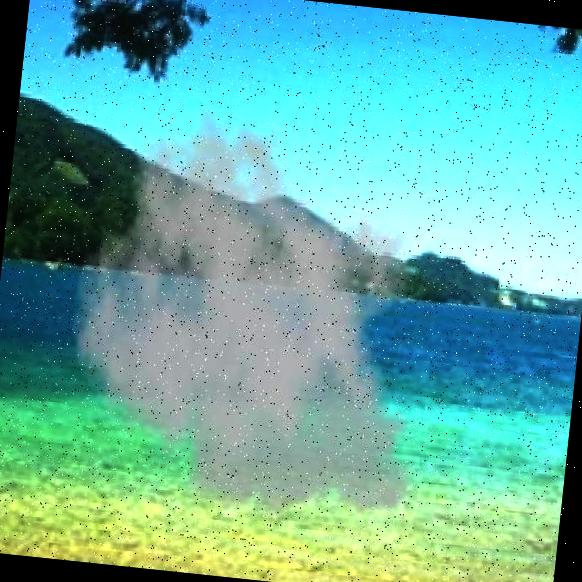smoke: (66, 107, 476, 533)
